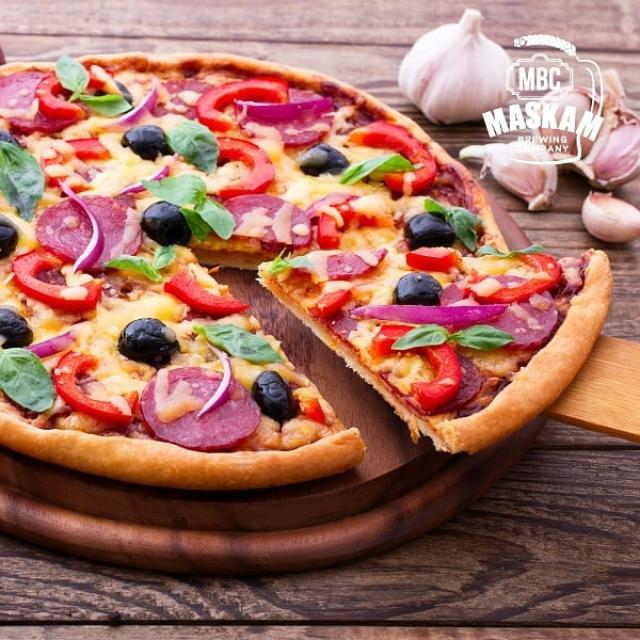black_olives: (118, 316, 180, 370), (254, 366, 299, 423), (141, 199, 193, 248), (120, 118, 172, 163), (298, 144, 354, 180), (395, 267, 442, 308), (405, 205, 456, 242), (0, 302, 34, 346), (0, 210, 21, 262)
pepperoni: (145, 365, 259, 449), (439, 271, 552, 345), (39, 189, 138, 265), (220, 190, 310, 247), (261, 114, 328, 150), (2, 69, 44, 120), (326, 247, 375, 279), (456, 354, 484, 405)
peppers: (374, 321, 463, 416), (352, 116, 451, 199), (18, 248, 100, 316), (192, 74, 284, 134), (55, 348, 124, 417), (208, 133, 269, 204), (163, 270, 250, 318), (320, 199, 398, 248), (40, 66, 84, 115)
pizza: (0, 54, 608, 491)
